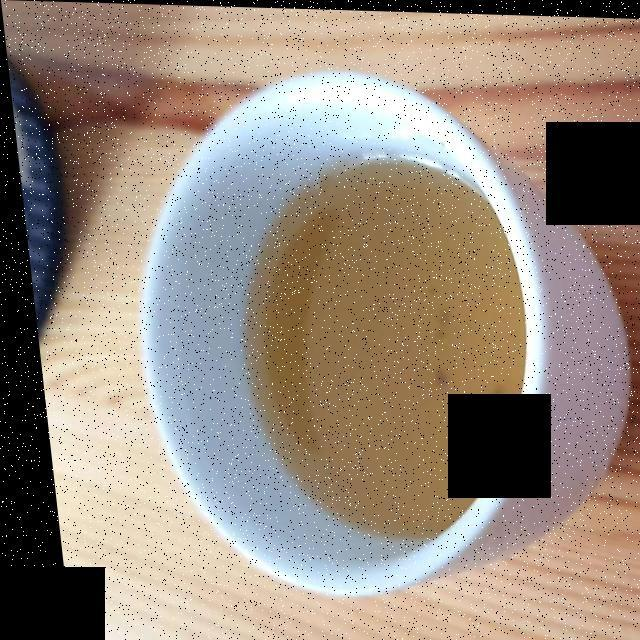tea: (239, 158, 514, 537)
